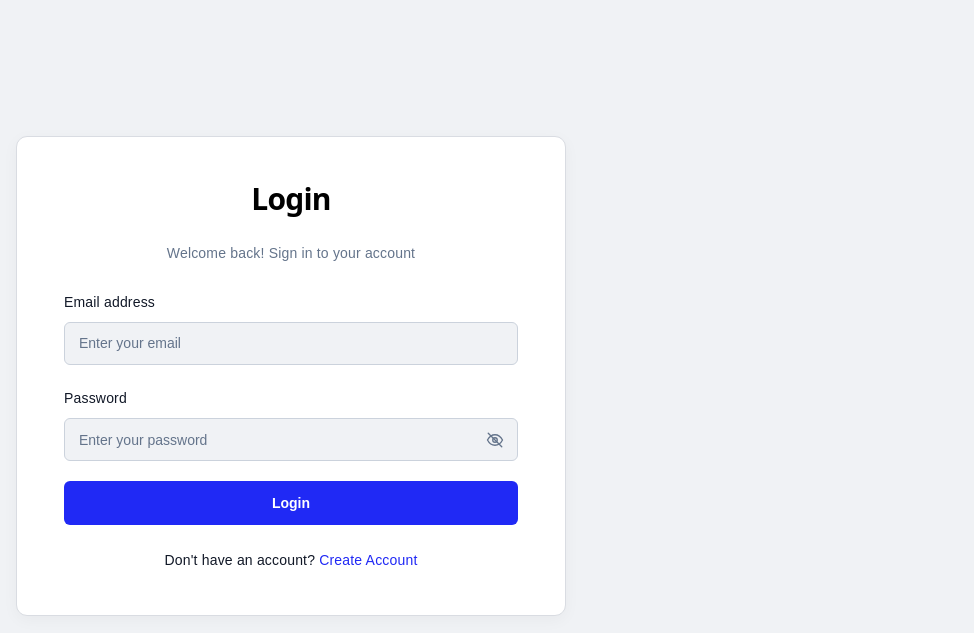
Scenario: Login component › displays a service unavailable toast for network failures
The width and height of the screenshot is (974, 633).
Step 1. Type "test@example.com" into the field labelled "Email address" → (291, 344), box [64, 322, 518, 365]
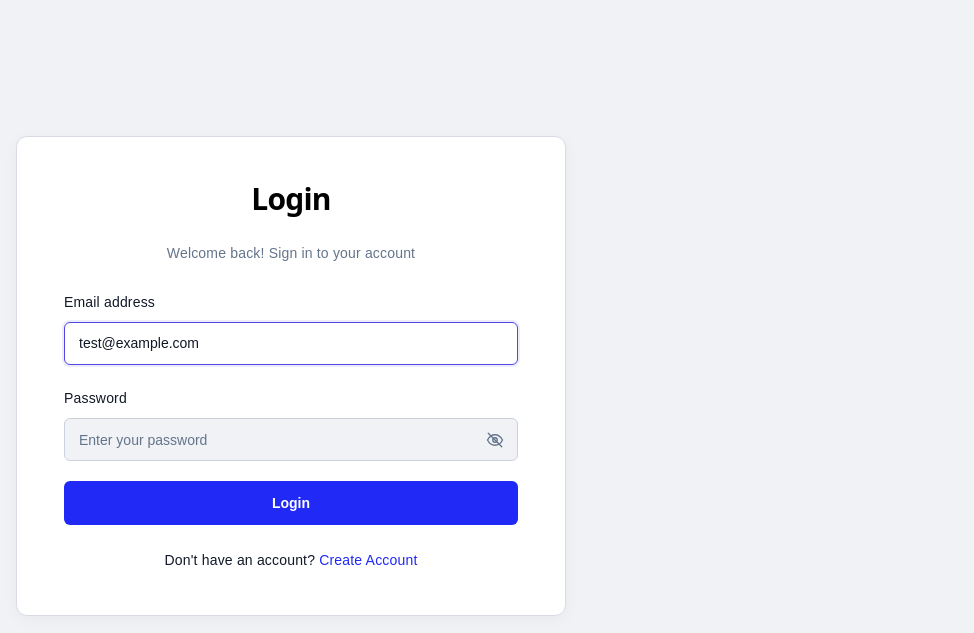
Step 2. Type "Password123!" into the password field labelled "Password" → (291, 440), box [64, 418, 518, 461]
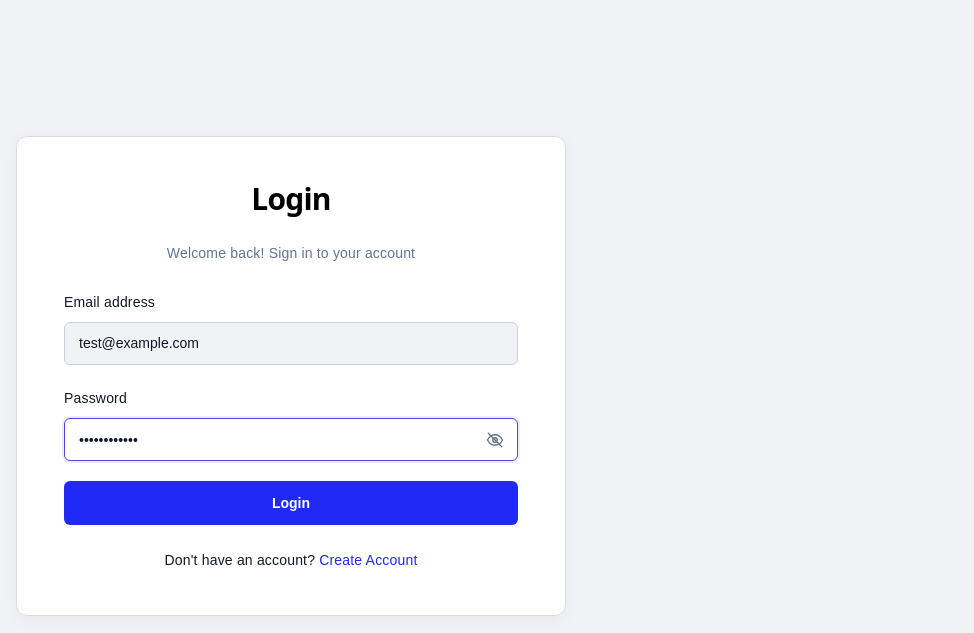
Step 3. Click the button "Login" → (291, 503), box [64, 481, 518, 525]
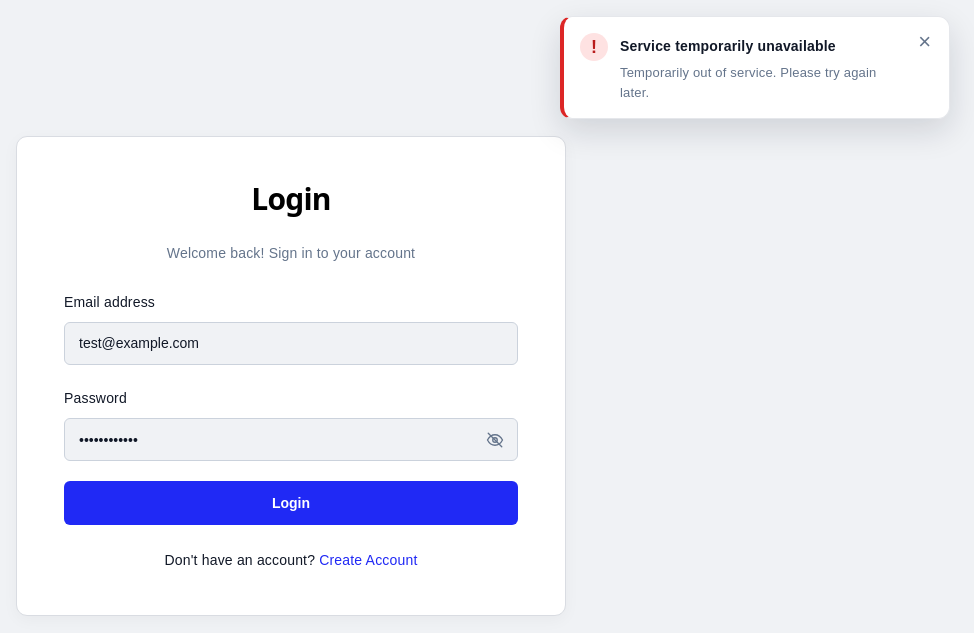
expect the text "Service temporarily unavailable" is shown: met, box [620, 38, 836, 54]
expect the text "Temporarily out of service. Please try again later." is shown: met, box [620, 63, 904, 102]
